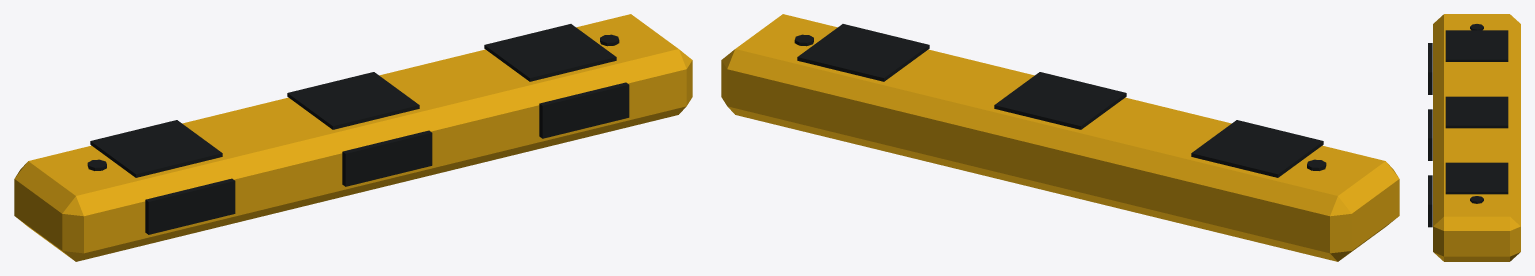
The model's file is SpeedBump.fbx.
The picture shows the model from 3 angles, left to right: view 1: azimuth 30°, elevation 25°; view 2: azimuth 150°, elevation 25°; view 3: azimuth 270°, elevation 25°; orthographic projection. The views are drawn at different scales.
Parts seen in each view (by area): view 1: SpeedBump; view 2: SpeedBump; view 3: SpeedBump.
Part boxes in pixels (box(x1,y1,x2,y2)): SpeedBump: box(14, 14, 692, 261); SpeedBump: box(721, 14, 1399, 261); SpeedBump: box(1428, 14, 1520, 261).
Size of the model in its own units: 160 by 17.45 by 29.6.
Materials: 1 (1 with a texture image).
